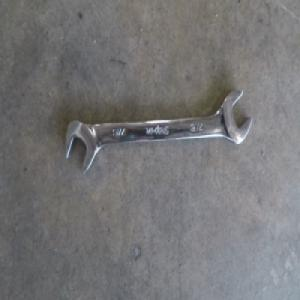Wrench: (68, 88, 254, 175)
